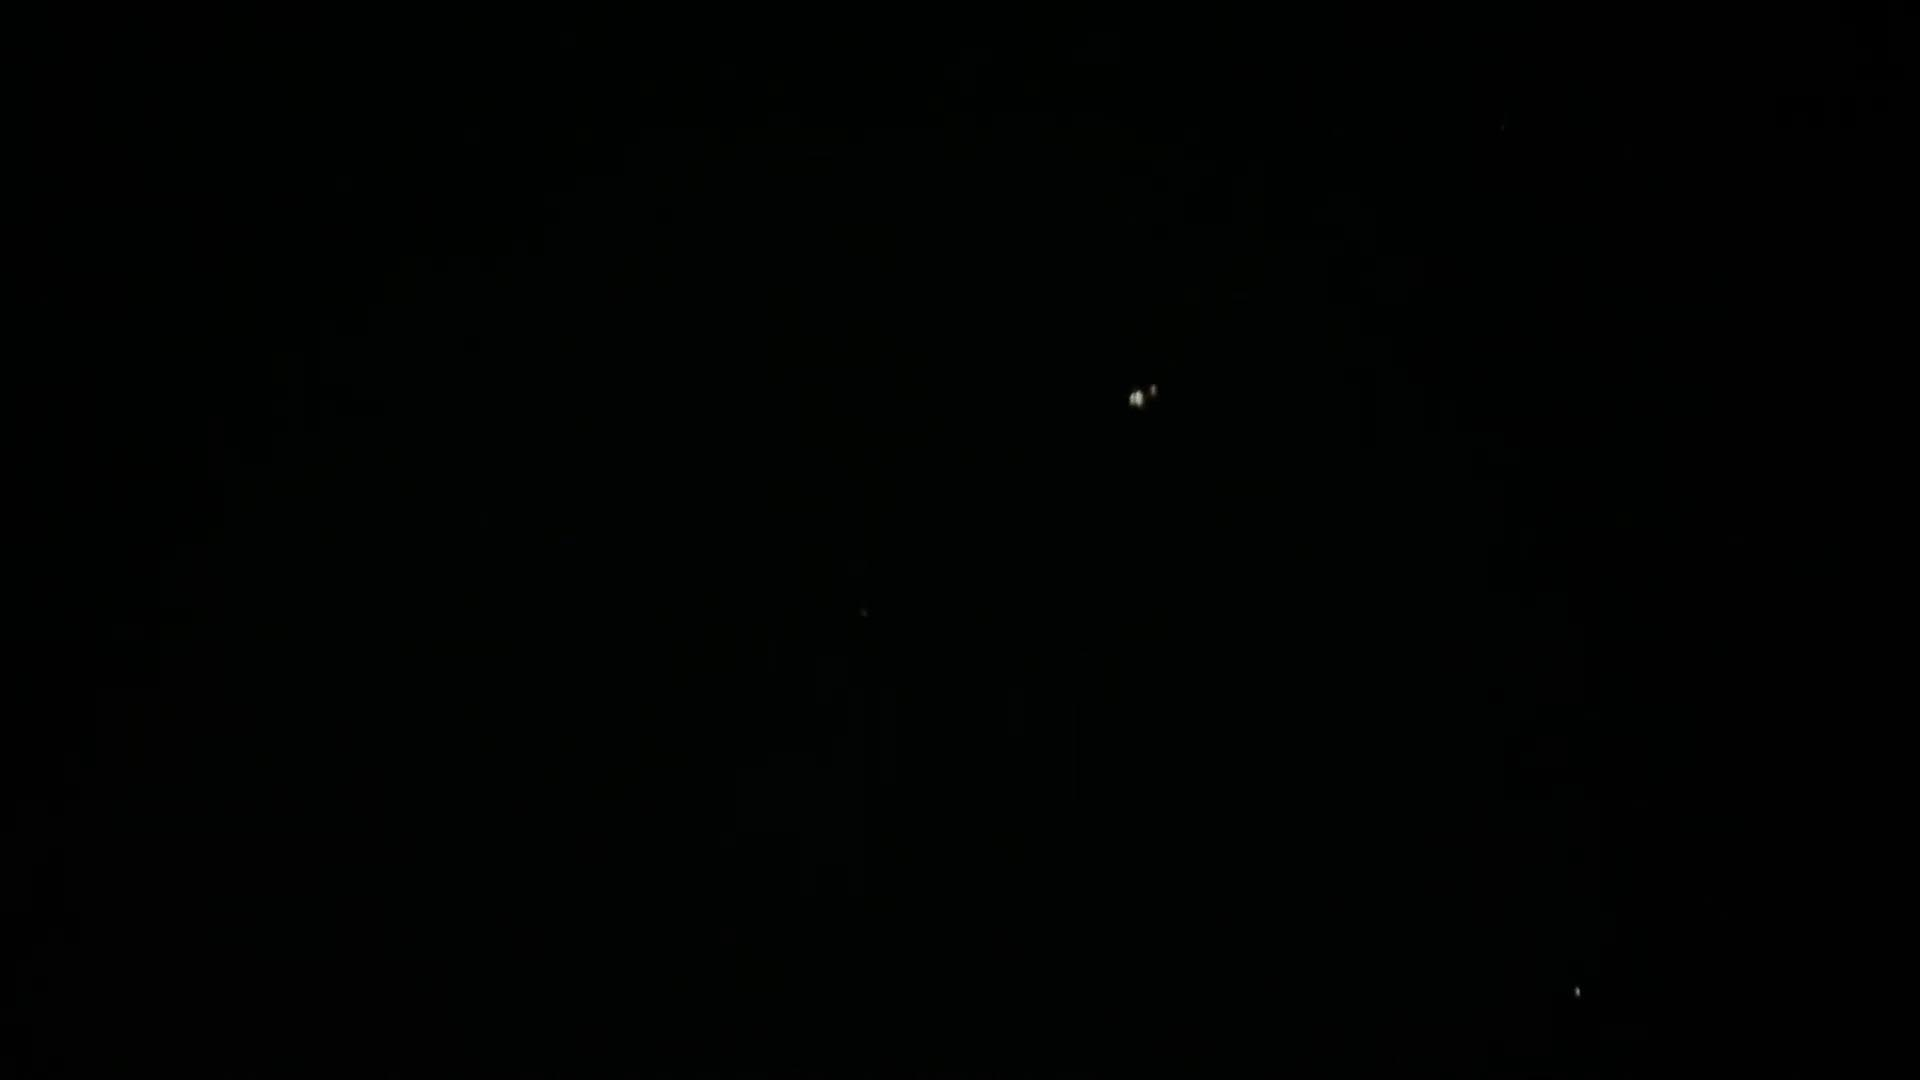Plane: (1121, 363, 1185, 430)
